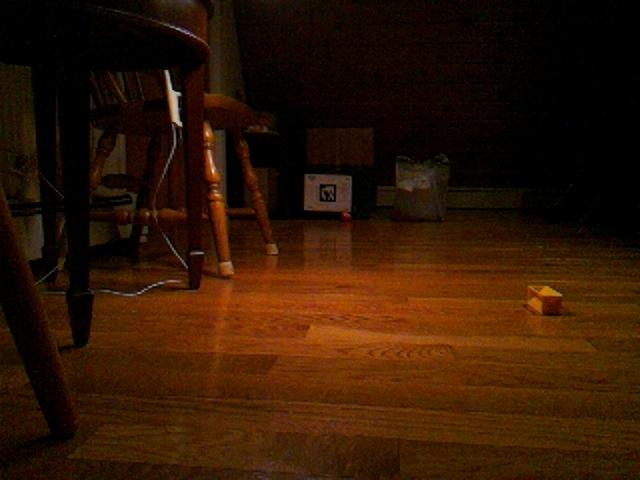yellow: (525, 283, 564, 317)
